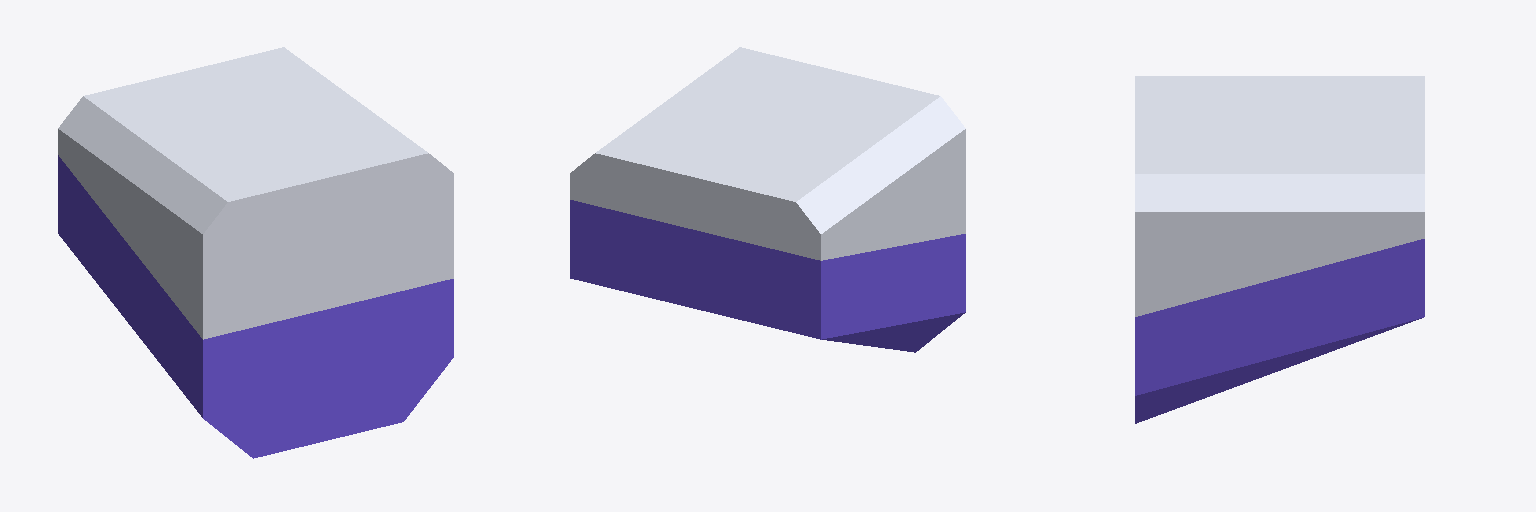
3 renders of one model, left to right at view 1: azimuth 30°, elevation 25°; view 2: azimuth 150°, elevation 25°; view 3: azimuth 270°, elevation 25°, orthographic.
Visible parts, largest first — view 1: mergedBlocks; view 2: mergedBlocks; view 3: mergedBlocks.
Part boxes in pixels (left/top/right/bottom): mergedBlocks: left=58, top=47, right=453, bottom=458; mergedBlocks: left=570, top=47, right=965, bottom=352; mergedBlocks: left=1135, top=76, right=1424, bottom=423.
Size of the model in its own units: 1 by 1 by 1.
1 materials, 1 textured.